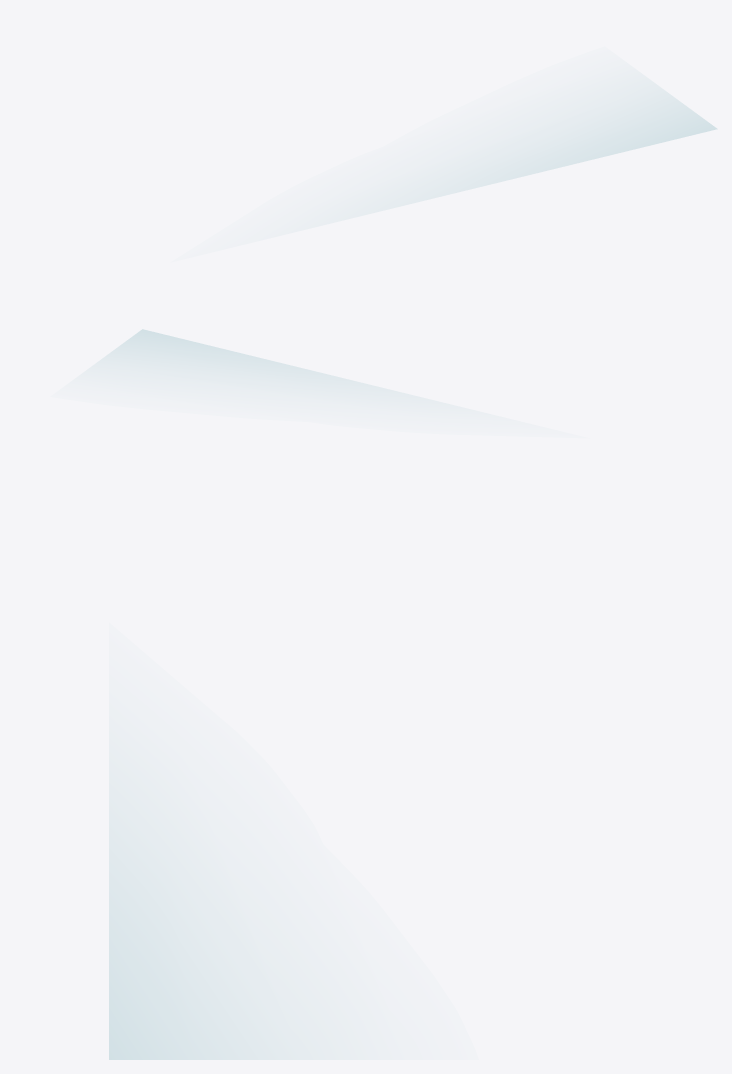
The picture shows the model from 3 angles, top to bottom: view 1: azimuth 30°, elevation 25°; view 2: azimuth 150°, elevation 25°; view 3: azimuth 270°, elevation 25°; orthographic projection. The views are drawn at different scales.
Visible parts, largest first — view 1: city; view 2: city; view 3: city.
Part boxes in pixels (x1,y1,x2,y2): city: (442,94,716,195); city: (105,329,367,384); city: (109,837,267,1059).
Size of the model in its own units: 377 by 0 by 146.
